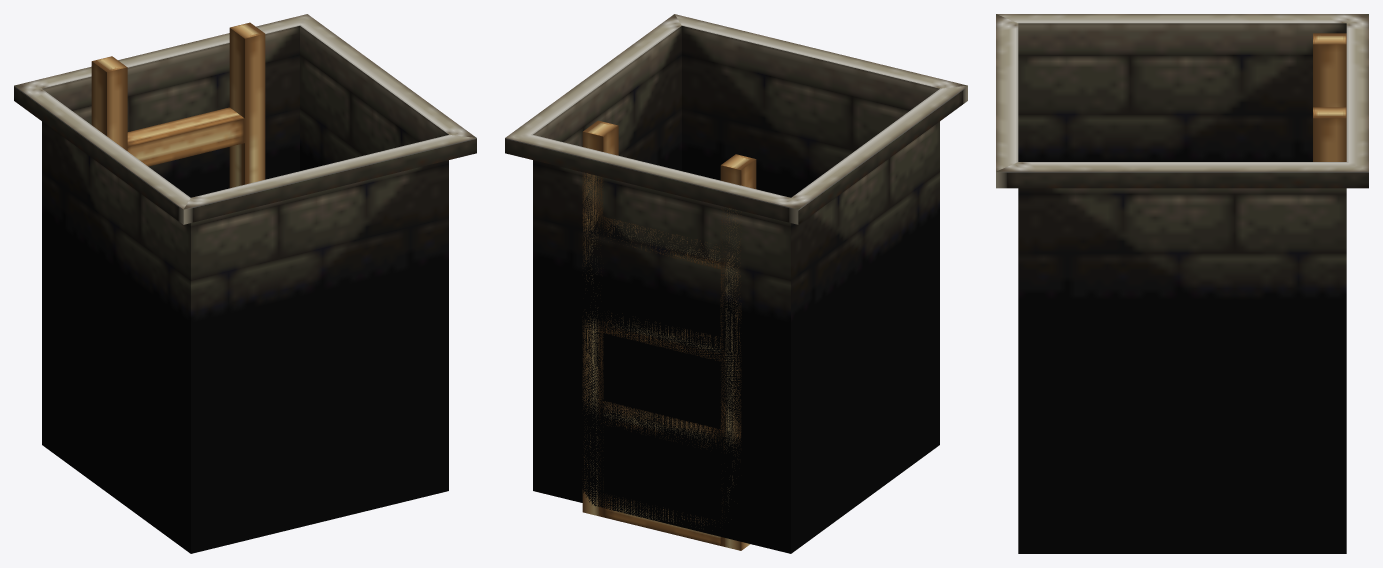
File: Inside_Poly_Hole_Ladder_01_Down.obj
3 views of the same model, side by side, from view 1: azimuth 30°, elevation 25°; view 2: azimuth 150°, elevation 25°; view 3: azimuth 270°, elevation 25° (orthographic). The views are drawn at different scales.
Visible parts, largest first — view 1: Cube, Cube.002; view 2: Cube, Cube.002; view 3: Cube, Cube.002.
Part boxes in pixels (box(x1,y1,x2,y2)): Cube: box(14, 14, 476, 553); Cube.002: box(91, 22, 265, 188); Cube: box(505, 14, 967, 553); Cube.002: box(582, 120, 756, 550); Cube: box(996, 14, 1368, 553); Cube.002: box(1313, 33, 1346, 161).
Bounding box in the file's own units: 1 × 1.24 × 1.
Materials: 1 (1 with a texture image).
